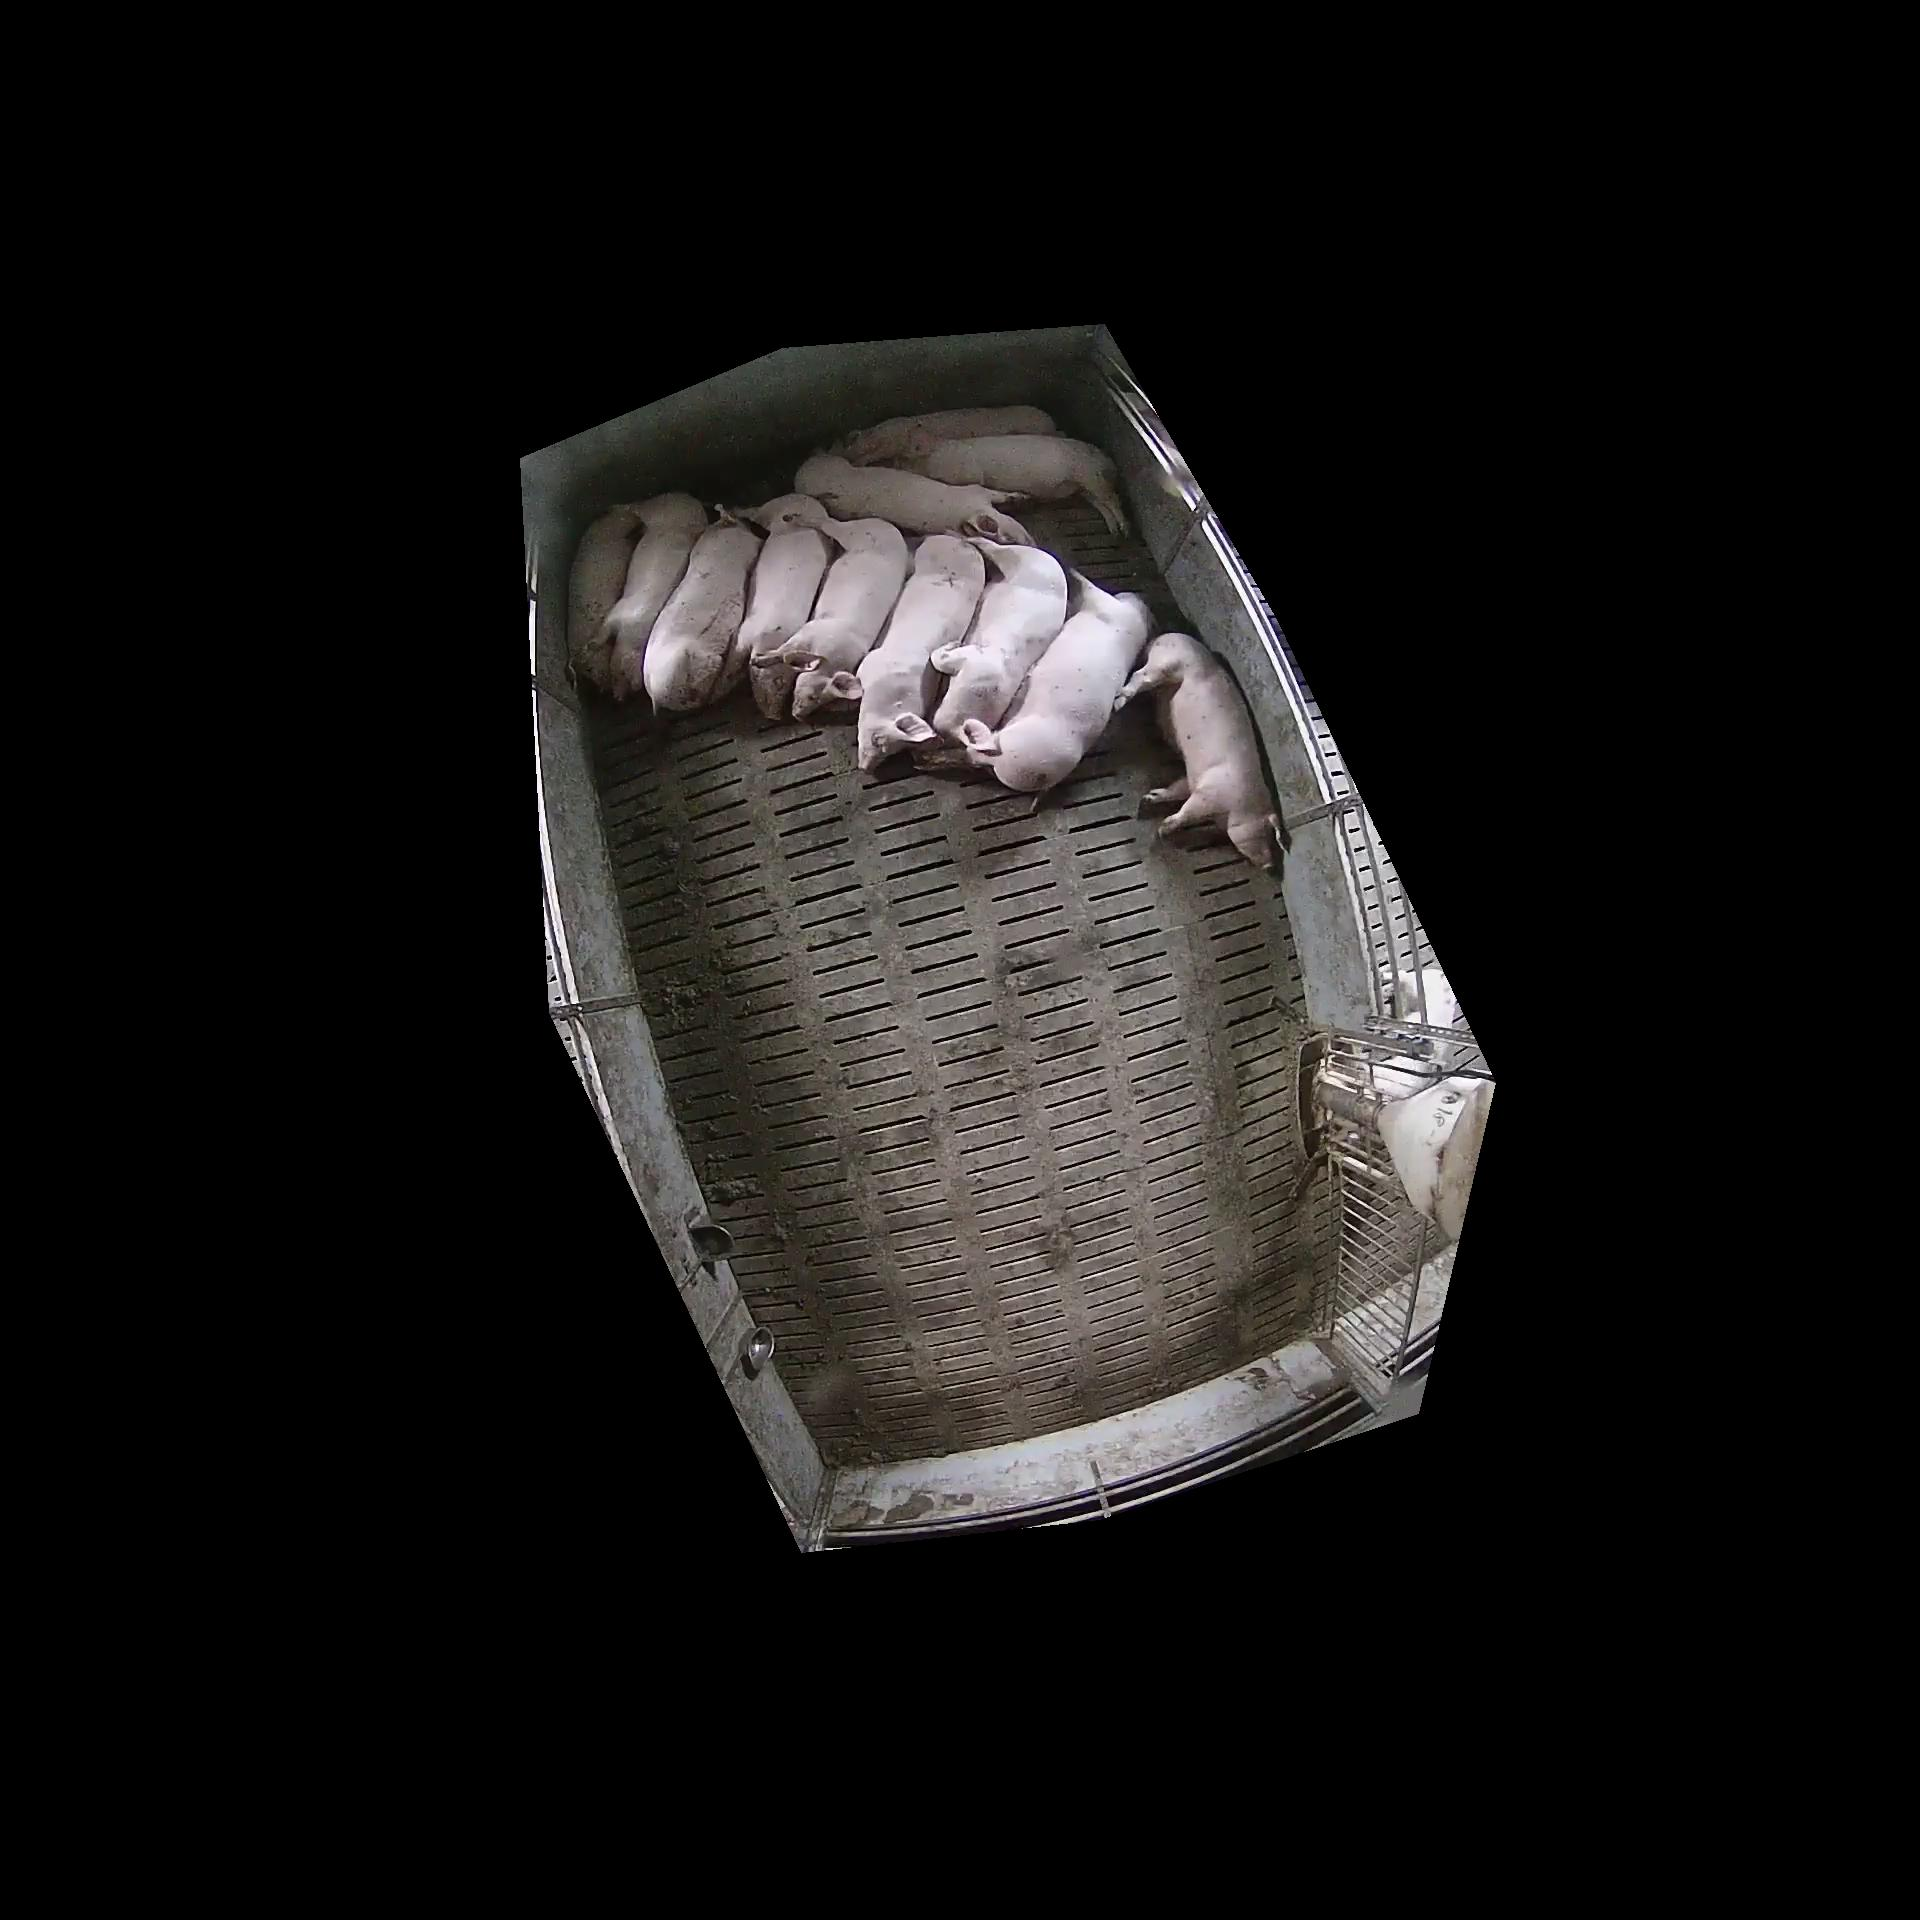pig: (1115, 633, 1280, 872), (971, 568, 1148, 788), (758, 519, 909, 719), (856, 538, 981, 779), (932, 533, 1064, 737), (723, 496, 830, 719), (644, 503, 758, 709), (909, 431, 1129, 536), (594, 492, 707, 698), (793, 450, 1034, 545), (568, 503, 638, 684), (840, 404, 1055, 461)
